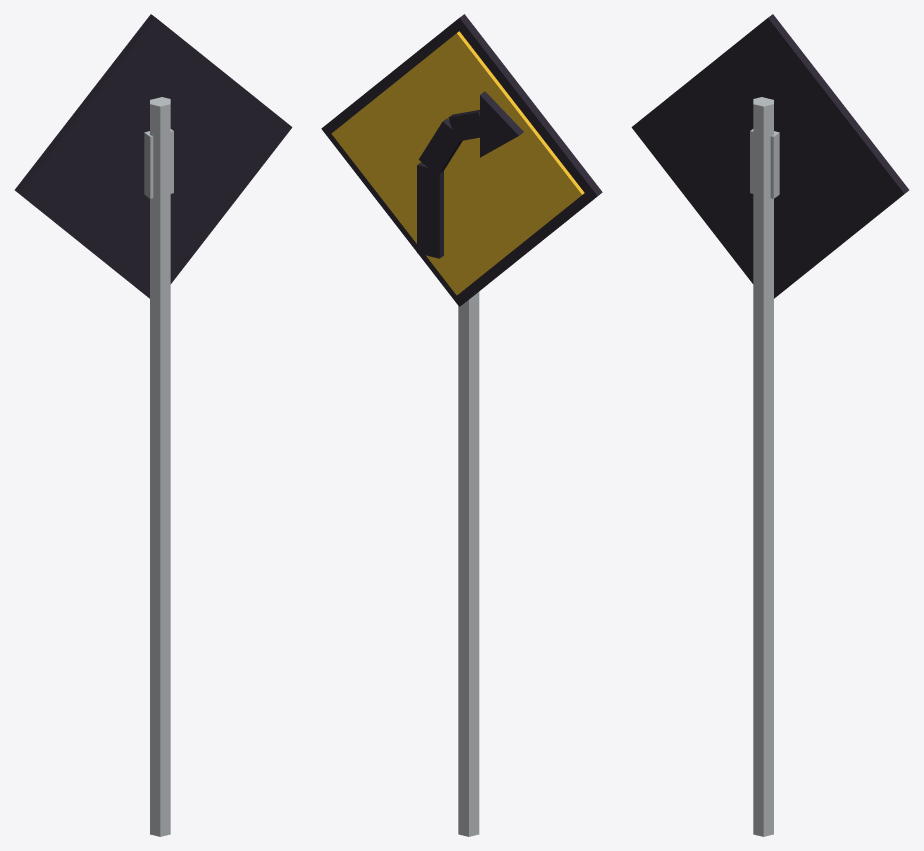
File: sign_curve_right.glb
3 renders of one model, left to right at view 1: azimuth 30°, elevation 25°; view 2: azimuth 150°, elevation 25°; view 3: azimuth 330°, elevation 25°, orthographic.
Parts seen in each view (by area): view 1: sign_curve_right; view 2: sign_curve_right; view 3: sign_curve_right.
Part boxes in pixels (bbox=[...]): sign_curve_right: bbox=[14, 14, 292, 836]; sign_curve_right: bbox=[321, 14, 602, 836]; sign_curve_right: bbox=[631, 14, 909, 836].
Size of the model in its own units: 0.9192 by 2.61 by 0.1403.
